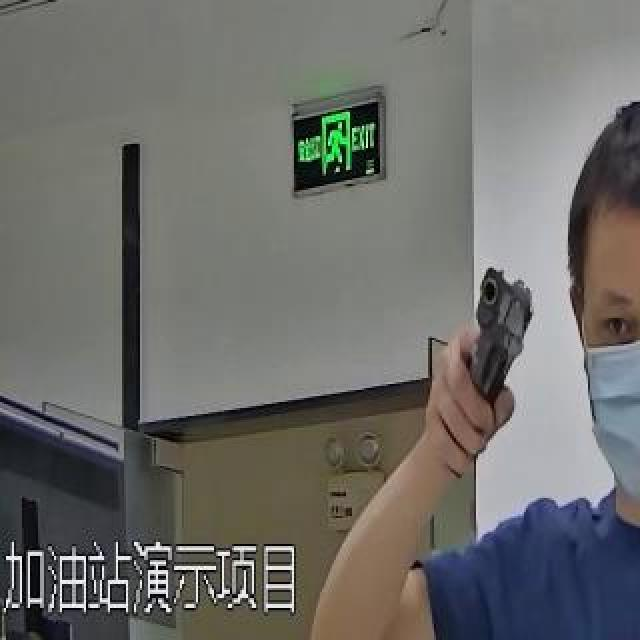Guns: (453, 245, 553, 432)
